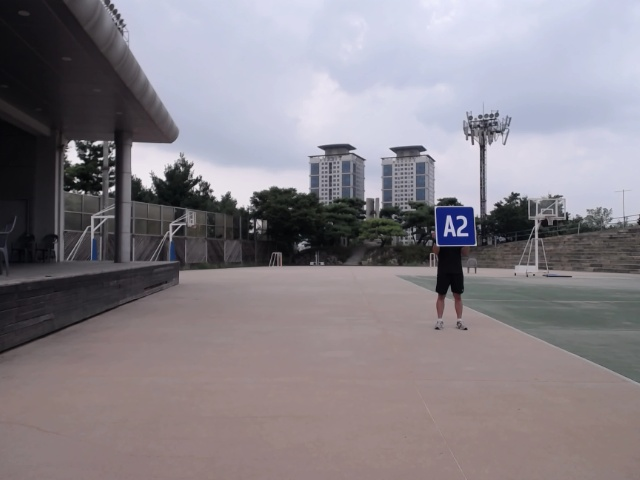delivery_a2: (435, 206, 476, 246)
